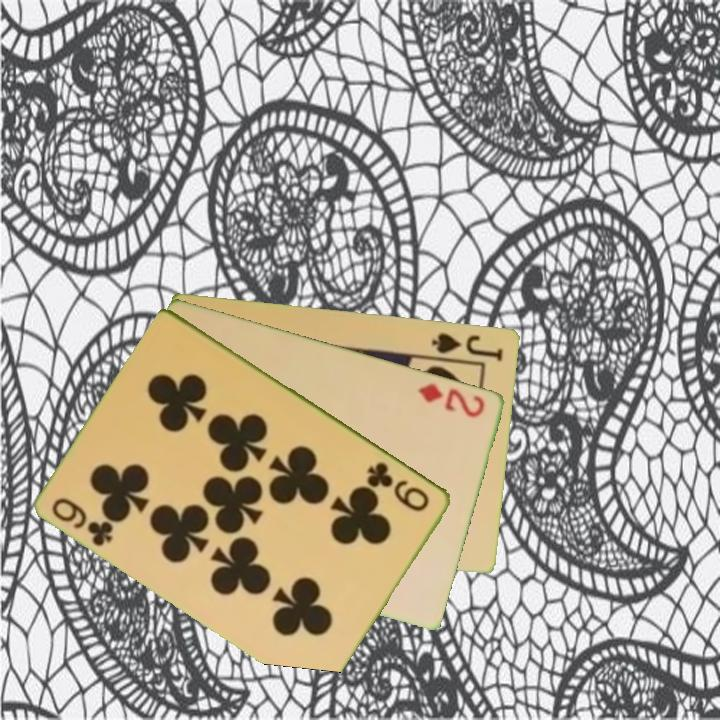2d: (415, 379, 488, 420)
9c: (364, 458, 433, 515), (48, 494, 117, 549)
Js: (429, 329, 506, 364)
